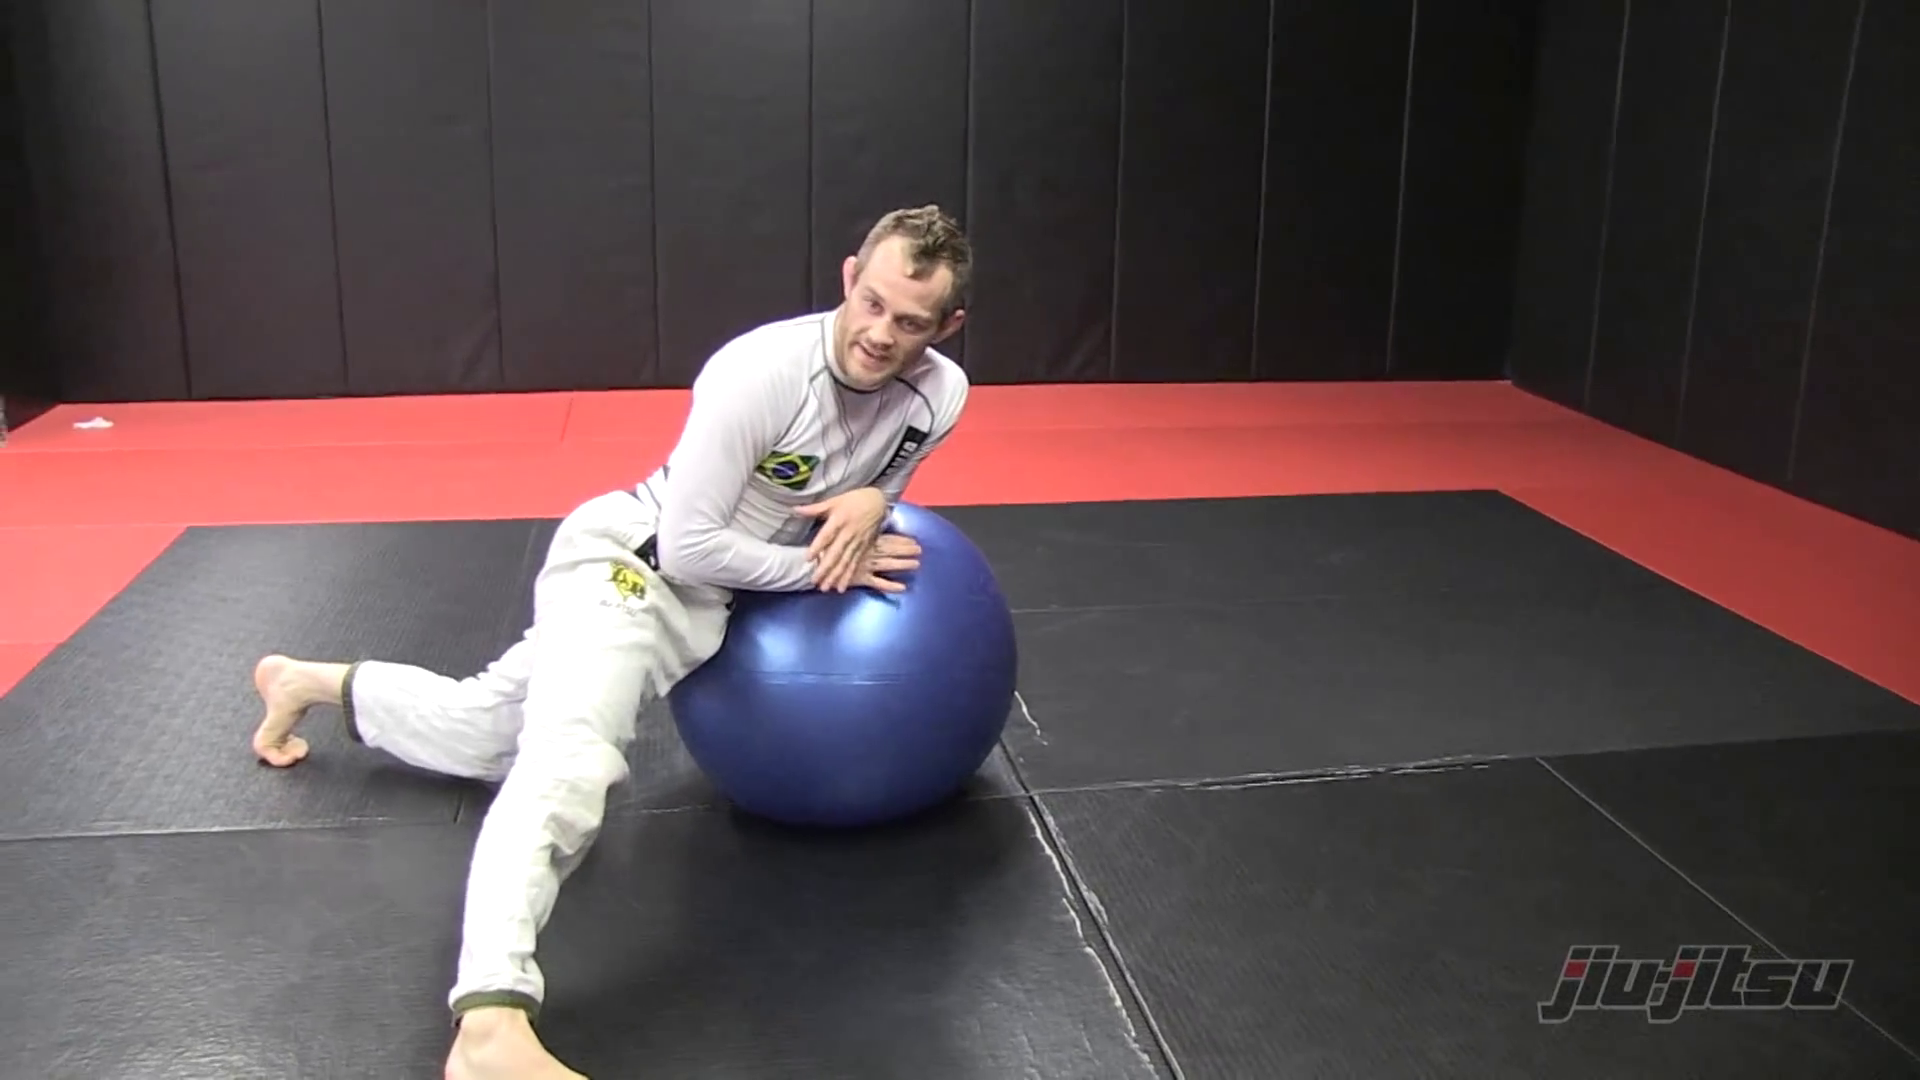yogaball: (654, 481, 1035, 847)
